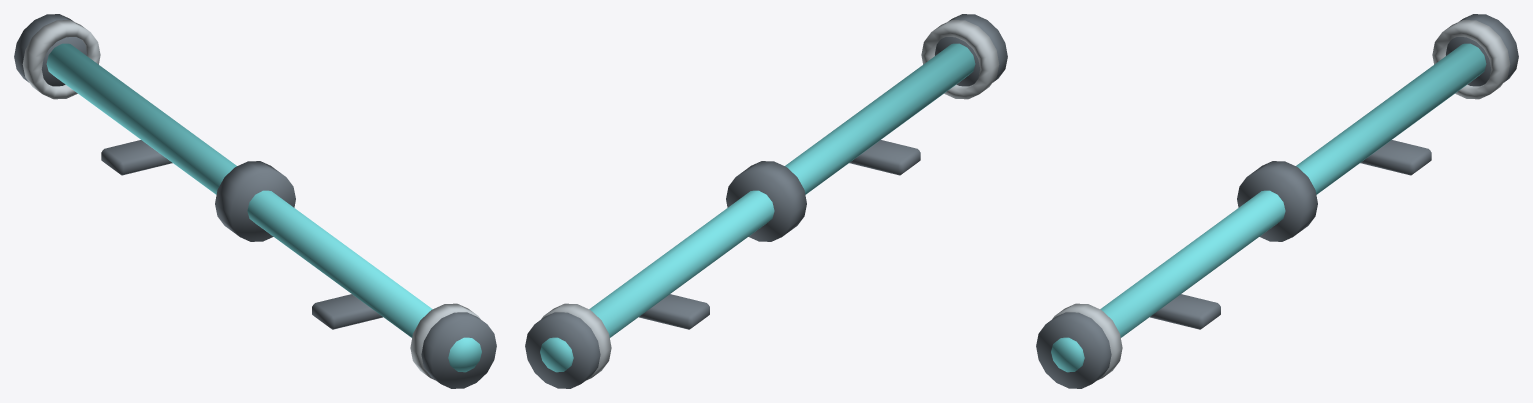
The model's file is conduit_straight_standard.glb.
3 renders of one model, left to right at view 1: azimuth 30°, elevation 25°; view 2: azimuth 150°, elevation 25°; view 3: azimuth 330°, elevation 25°, orthographic.
Parts seen in each view (by area): view 1: Conduit_cyan, Coupler_dark, Flange_steel, SupportBracket_dark; view 2: Conduit_cyan, Coupler_dark, Flange_steel, SupportBracket_dark; view 3: Conduit_cyan, Coupler_dark, Flange_steel, SupportBracket_dark.
Boxes of the visible parts, left/top/right/bottom form: Conduit_cyan: left=46, top=43, right=481, bottom=372; Coupler_dark: left=14, top=14, right=496, bottom=388; Flange_steel: left=22, top=20, right=480, bottom=380; SupportBracket_dark: left=101, top=140, right=382, bottom=329; Conduit_cyan: left=540, top=43, right=975, bottom=372; Coupler_dark: left=525, top=14, right=1007, bottom=388; Flange_steel: left=541, top=20, right=999, bottom=380; SupportBracket_dark: left=639, top=140, right=920, bottom=329; Conduit_cyan: left=1051, top=43, right=1486, bottom=372; Coupler_dark: left=1036, top=14, right=1518, bottom=388; Flange_steel: left=1052, top=20, right=1510, bottom=380; SupportBracket_dark: left=1150, top=140, right=1431, bottom=329.
Size of the model in its own units: 0.33 by 0.2805 by 3.
